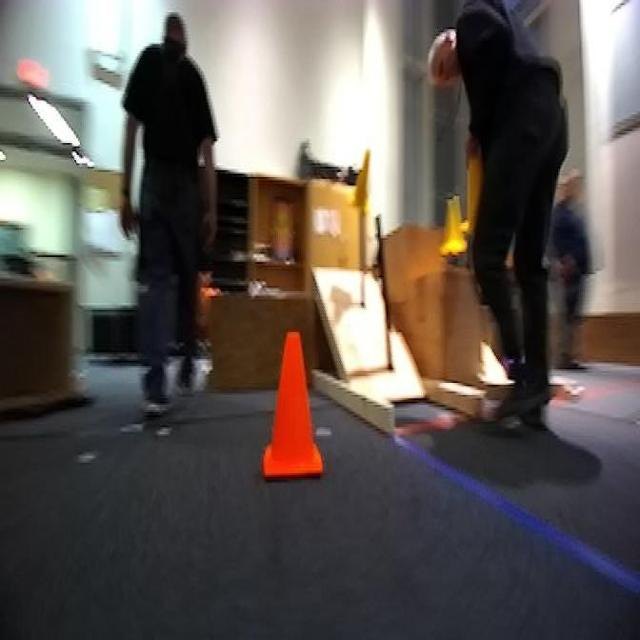frc_cone: (461, 152, 490, 233), (437, 192, 462, 268), (349, 146, 376, 211)
frc_cube: (533, 351, 563, 405)
